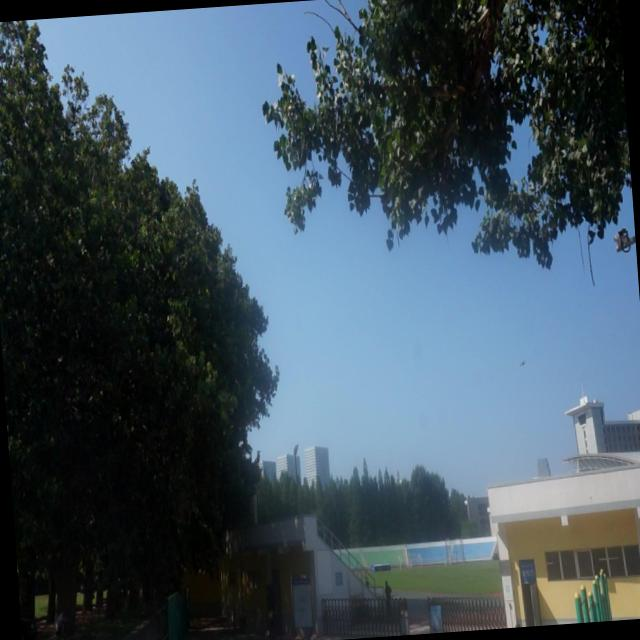drone: (519, 357, 527, 368)
